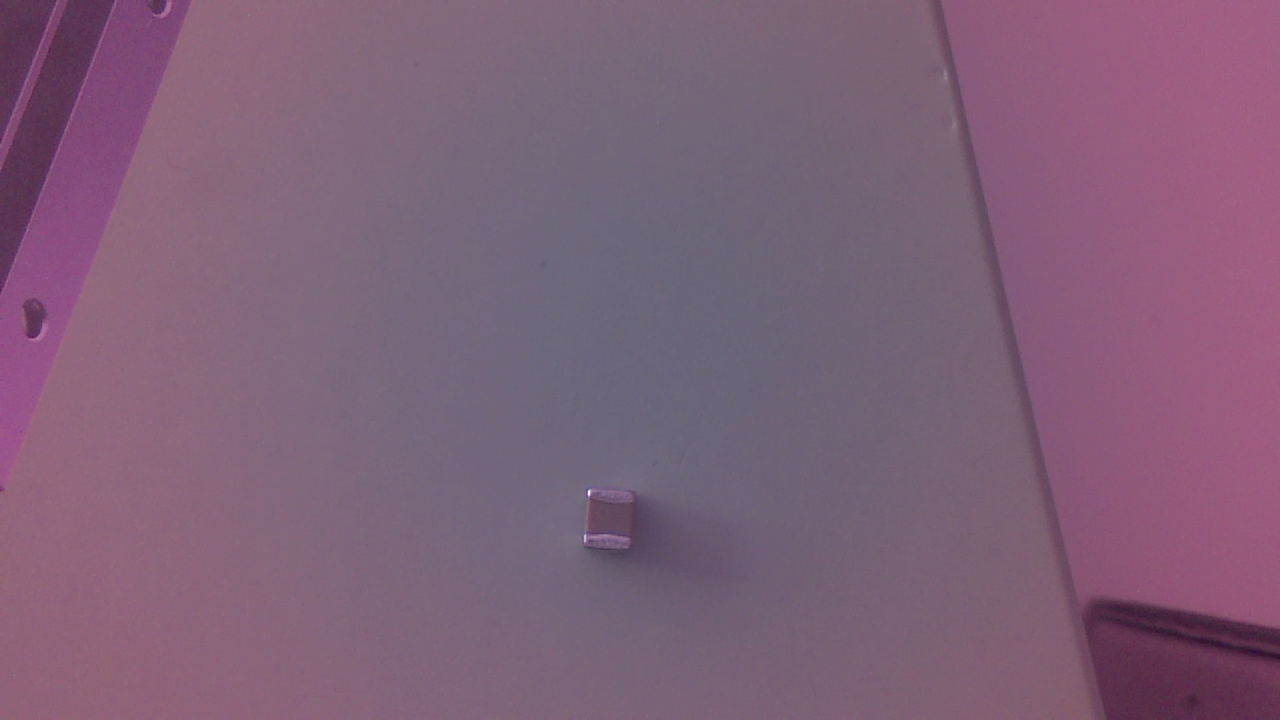Condensator: (580, 486, 652, 561)
